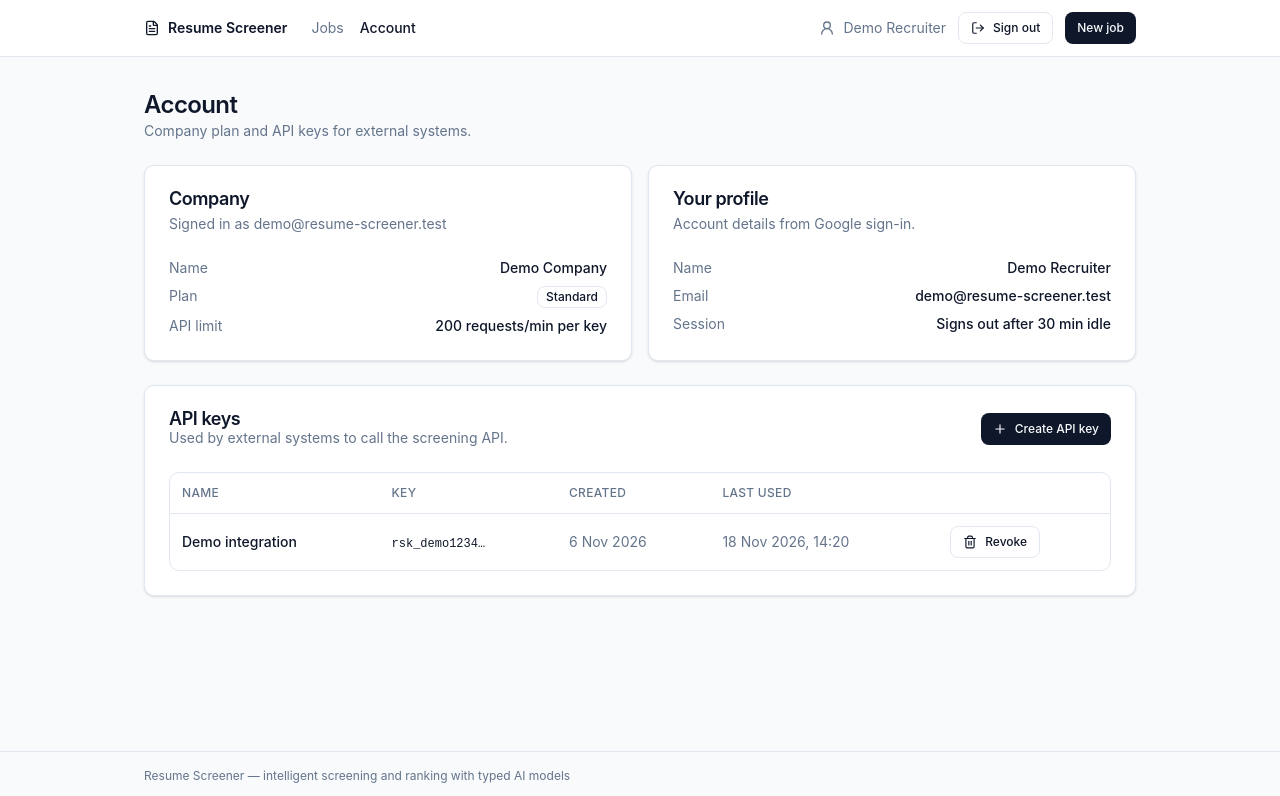
Test: authentication and account › shows the company plan and API keys, and creates a key
The width and height of the screenshot is (1280, 796).
Check: the text "Demo Company" is shown, box [500,258,607,278]
Check: the text "standard" is shown, box [537,286,607,308]
Click the button "Create API key" at (1046, 429), box [981,413,1111,445]
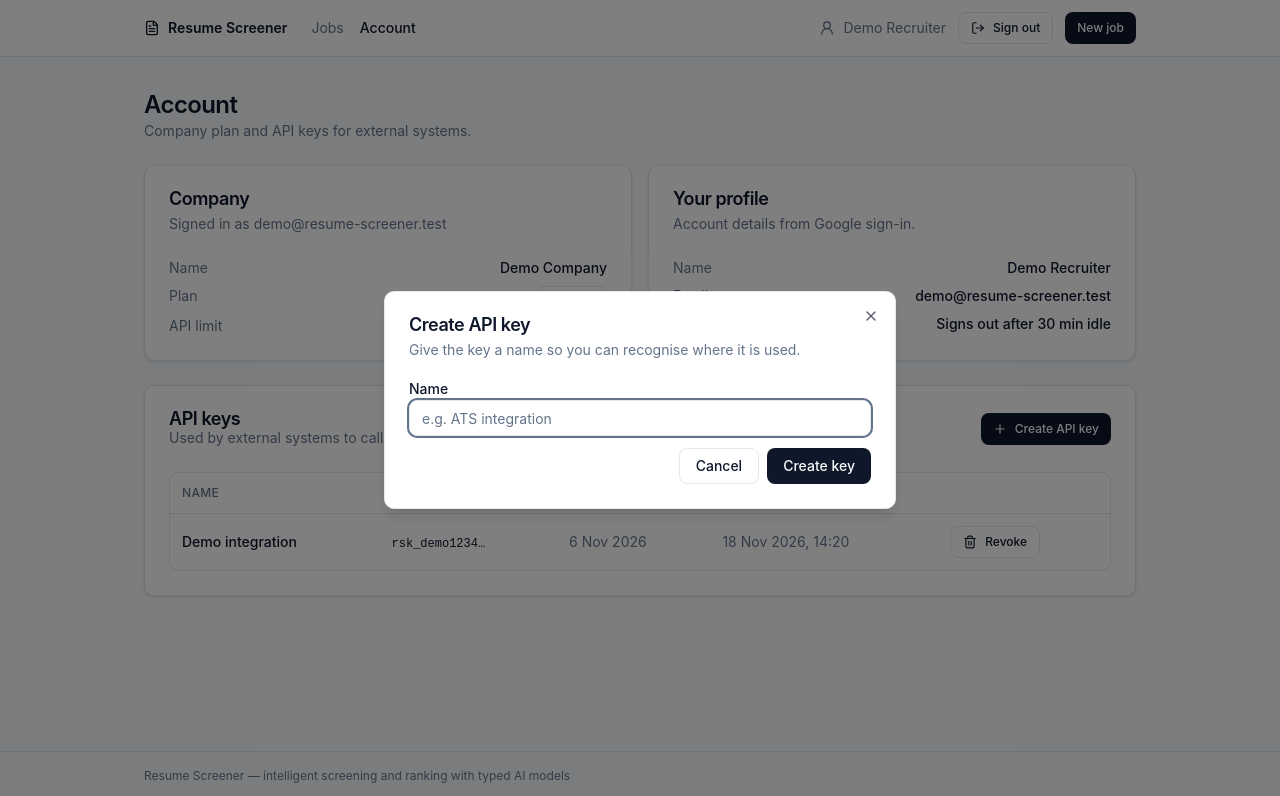
Type "ATS integration" into the field labelled "Name" at (640, 418), box [409,400,871,436]
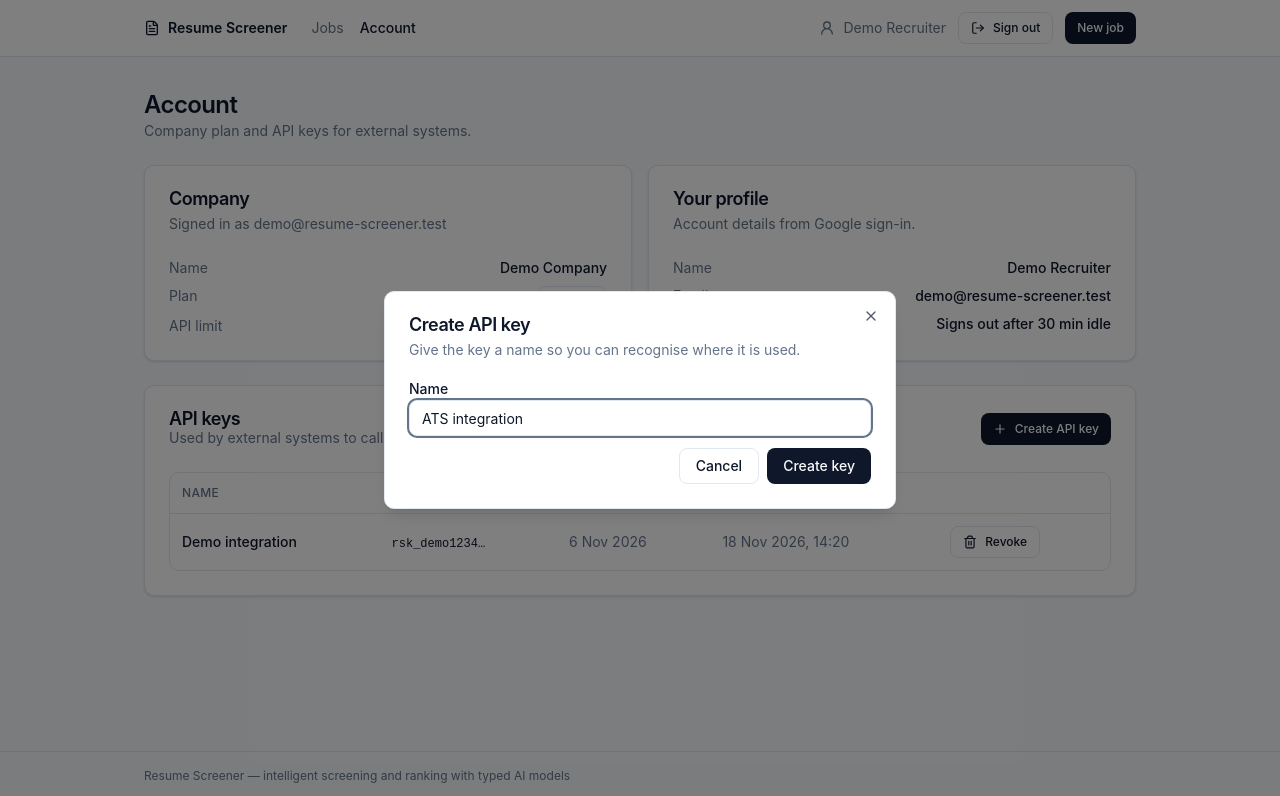
Click the button "Create key" at (819, 466), box [767,448,871,484]
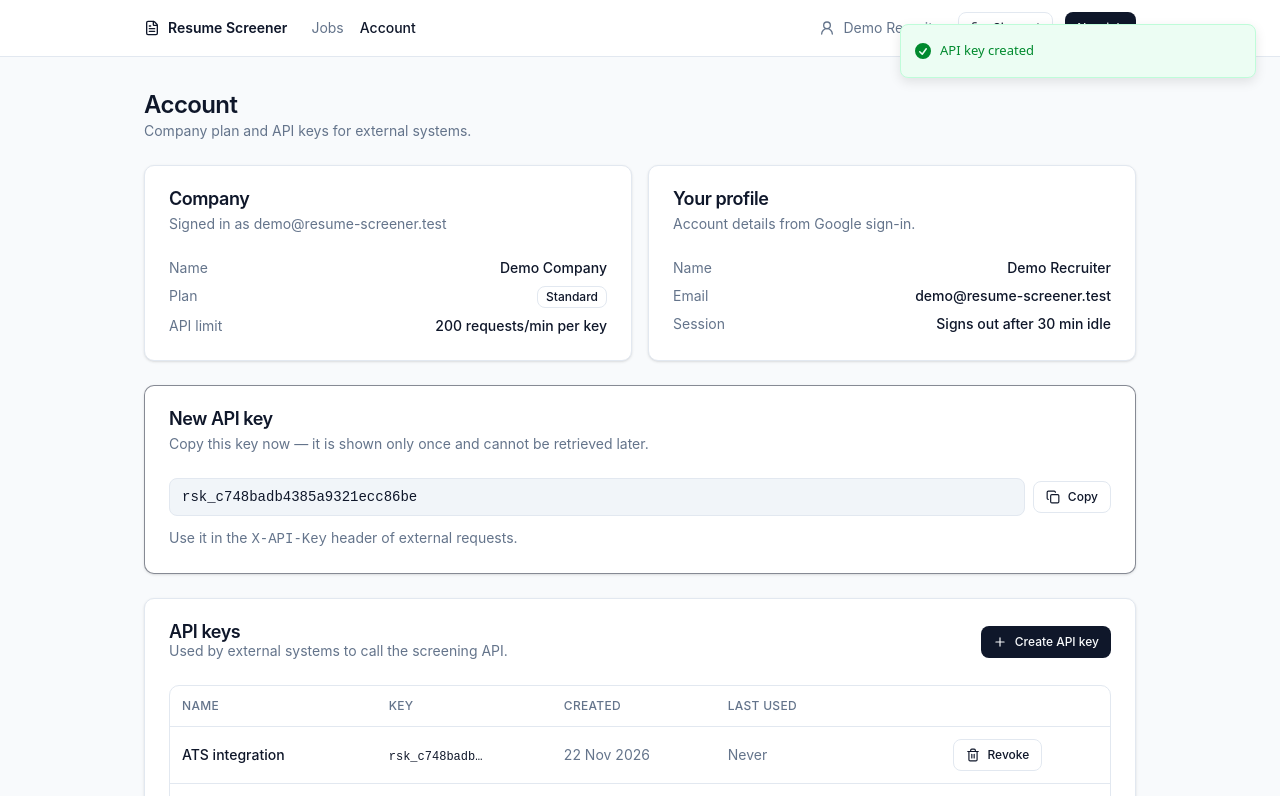
Check: the heading "New API key" is shown, box [169,408,273,429]
Check: the text "rsk_" is shown, box [182,489,417,505]
